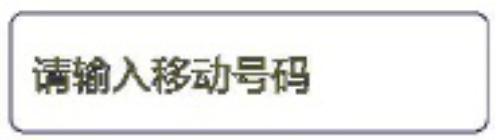EditText: (1, 1, 494, 139)
